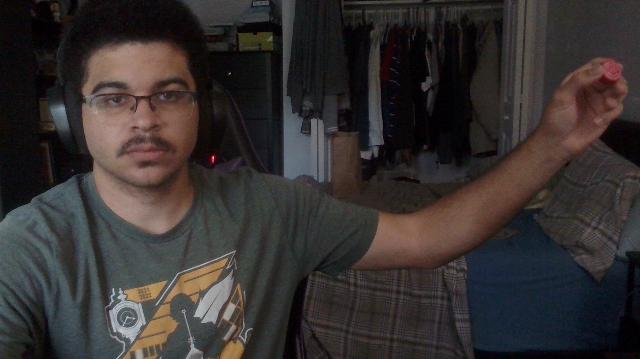cap: (600, 61, 622, 83)
